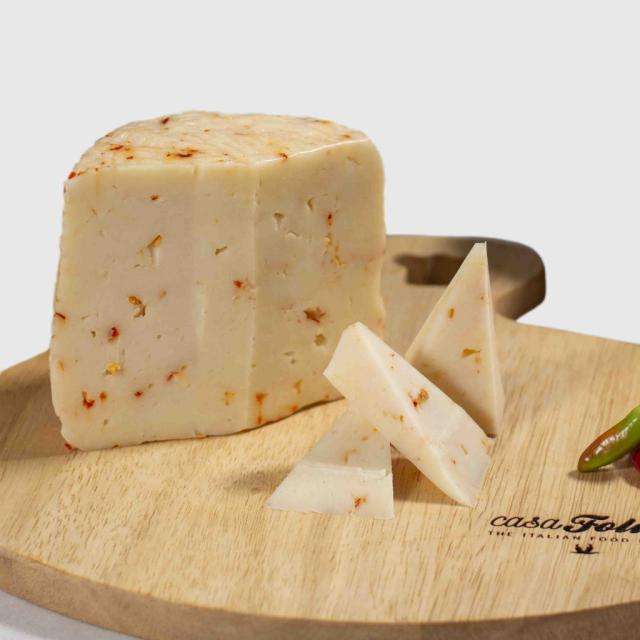Cheese: (44, 95, 393, 462), (282, 235, 503, 505)
